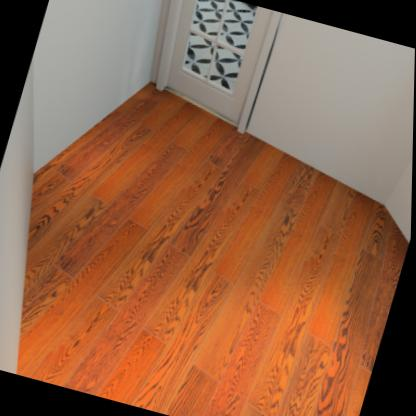Wooden floor: (17, 82, 410, 416)
